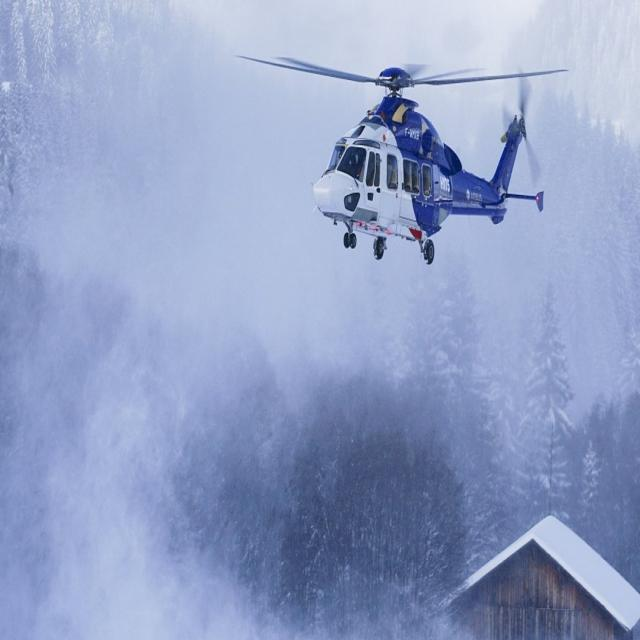helicopter: (233, 51, 570, 266)
